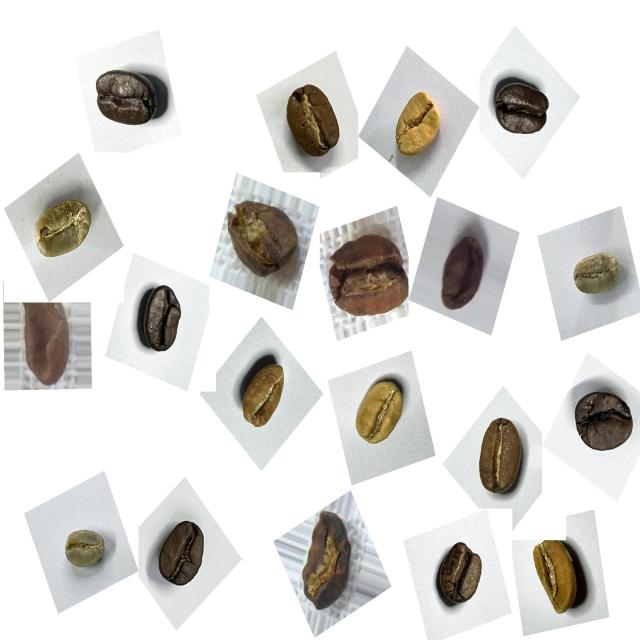bad: (321, 222, 414, 334), (290, 504, 363, 620), (220, 188, 302, 287), (9, 297, 80, 393), (434, 225, 499, 323)
dark: (88, 53, 170, 139), (564, 378, 638, 468), (150, 512, 218, 602), (485, 71, 559, 153), (131, 277, 198, 367)
green: (25, 188, 103, 273), (564, 242, 630, 309), (57, 520, 115, 583)
light: (524, 532, 596, 625), (343, 366, 412, 456), (232, 347, 298, 440), (388, 80, 453, 168)
medium: (276, 74, 352, 169), (464, 410, 534, 507), (427, 534, 491, 616)
